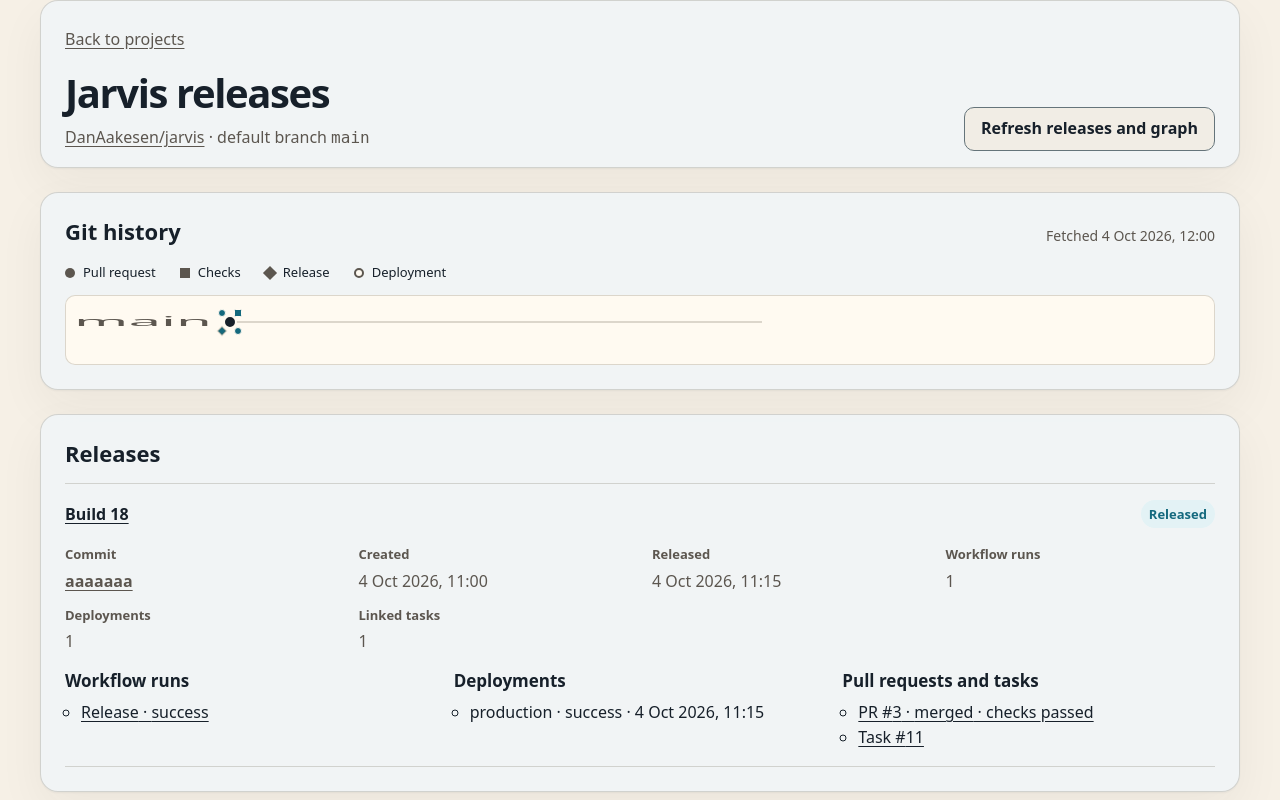
it: project release view › shows GitHub history, release records, related tasks, runs, deployments, and links
Expected: the heading "Jarvis releases" is shown, [65,69,370,117]
Expected: the heading "Git history" is shown, [65,217,181,245]
Step 1. Click the link "Build 18" → (97, 514), box [65,502,129,527]
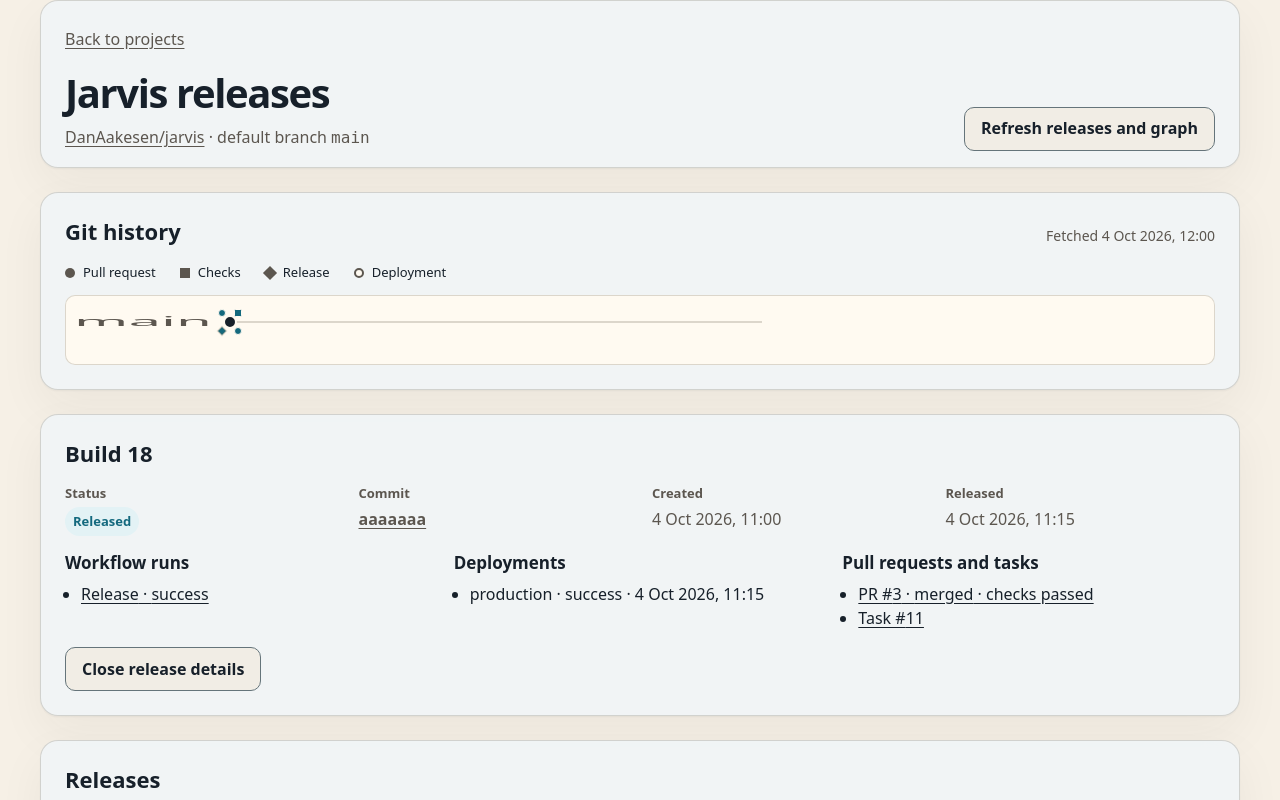
Expected: the heading "Build 18" is shown, [65,438,152,468]
Expected: the button "Close release details" is shown, [65,647,261,691]
